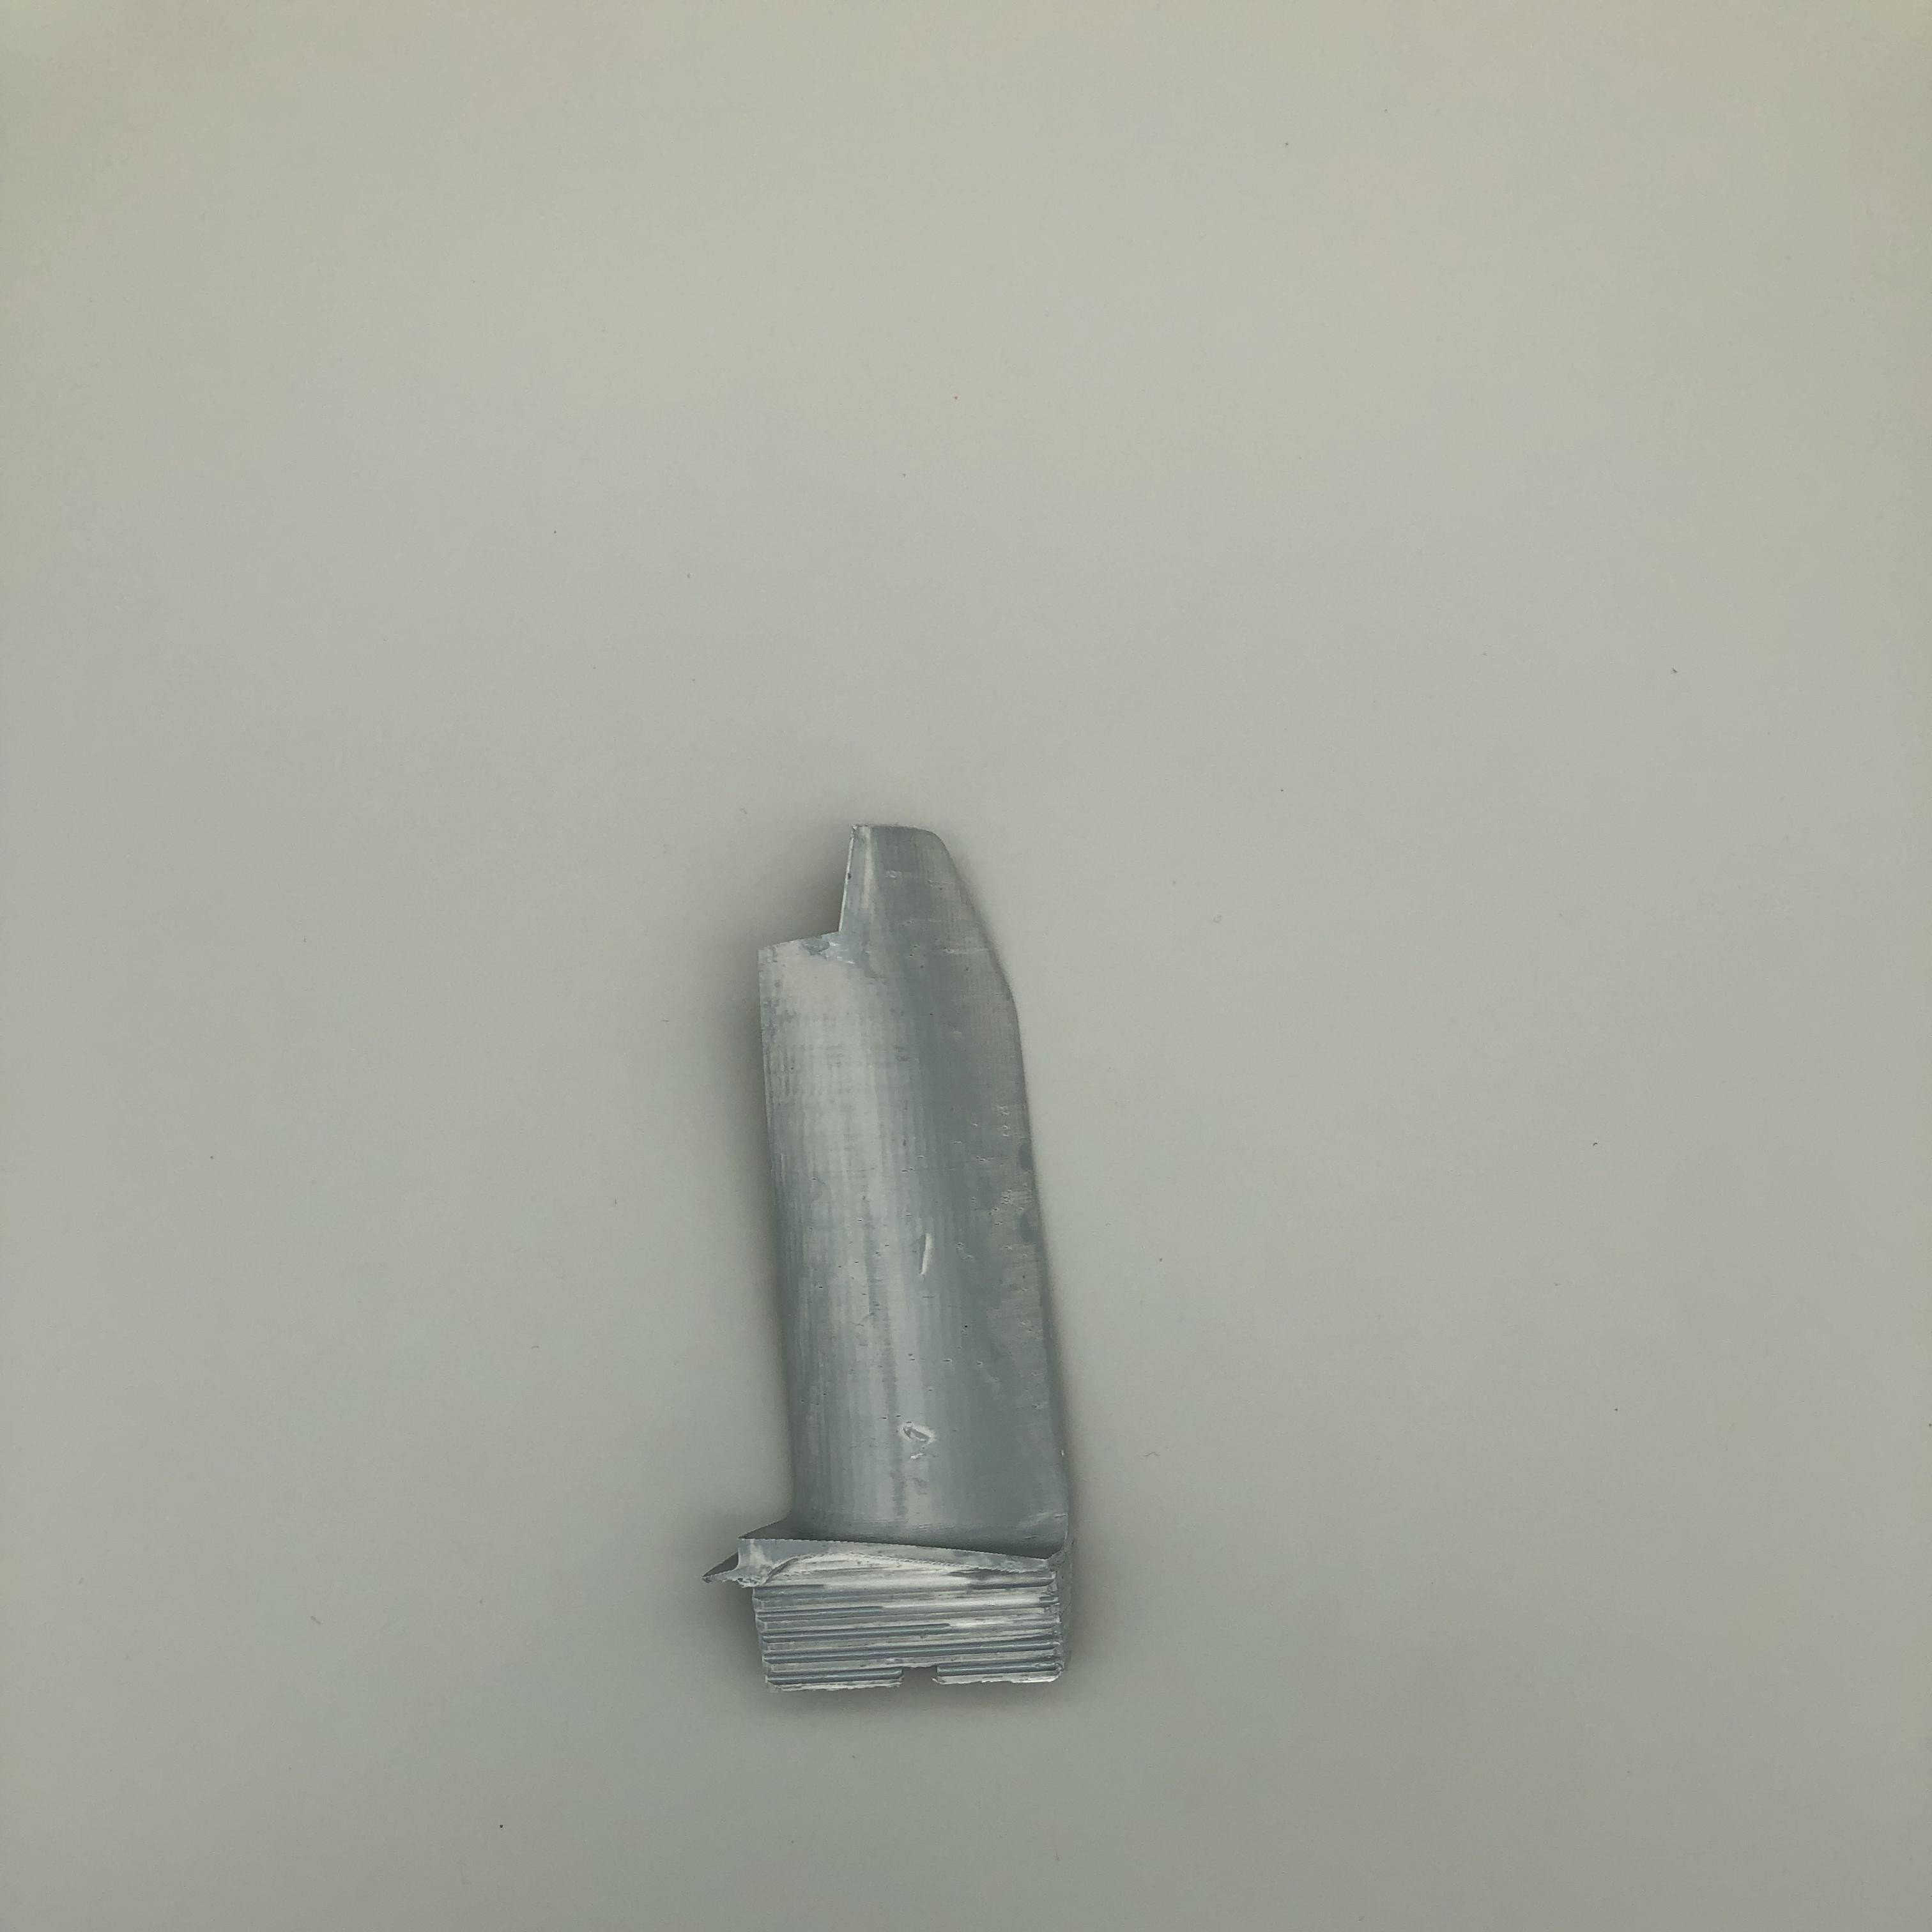fracture: (752, 817, 869, 957)
